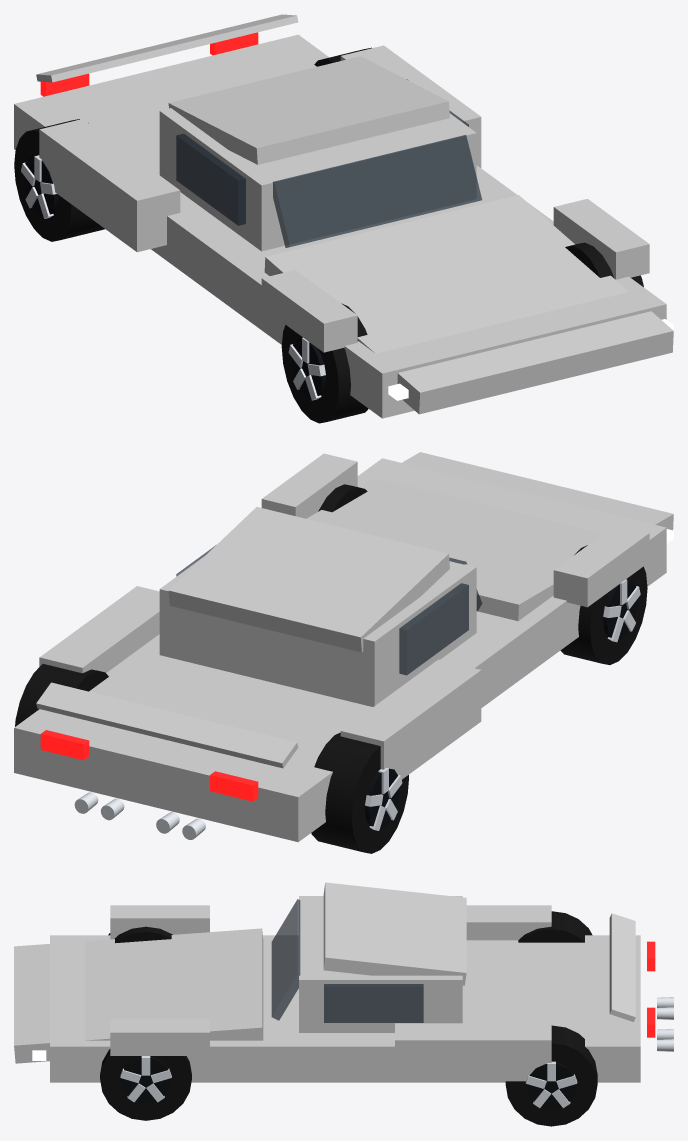
File: shovel-thresher.glb
3 views of the same model, one above another, from view 1: azimuth 30°, elevation 25°; view 2: azimuth 150°, elevation 25°; view 3: azimuth 270°, elevation 25° (orthographic). The views are drawn at different scales.
Parts seen in each view (by area): view 1: chassis, glass, wheel-front-left, wheel-back-left, wheel-front-right; view 2: chassis, wheel-back-left, wheel-front-left, wheel-back-right, wheel-front-right; view 3: chassis, wheel-back-right, wheel-front-right, glass, wheel-back-left, wheel-front-left.
Part boxes in pixels (bbox=[...]): chassis: bbox=[14, 14, 673, 418]; glass: bbox=[273, 135, 481, 247]; wheel-front-left: bbox=[281, 303, 368, 423]; wheel-back-left: bbox=[14, 119, 104, 241]; wheel-front-right: bbox=[565, 242, 643, 287]; chassis: bbox=[14, 452, 673, 842]; wheel-back-left: bbox=[311, 732, 408, 853]; wheel-front-left: bbox=[560, 545, 647, 664]; wheel-back-right: bbox=[15, 664, 108, 726]; wheel-front-right: bbox=[318, 484, 367, 512]; chassis: bbox=[14, 882, 673, 1082]; wheel-back-right: bbox=[505, 1025, 597, 1126]; wheel-front-right: bbox=[100, 1049, 191, 1120]; glass: bbox=[271, 899, 300, 1020]; wheel-back-left: bbox=[518, 911, 592, 942]; wheel-front-left: bbox=[108, 926, 172, 943].
Size of the model in its own units: 2.27 by 1.09 by 4.64.
